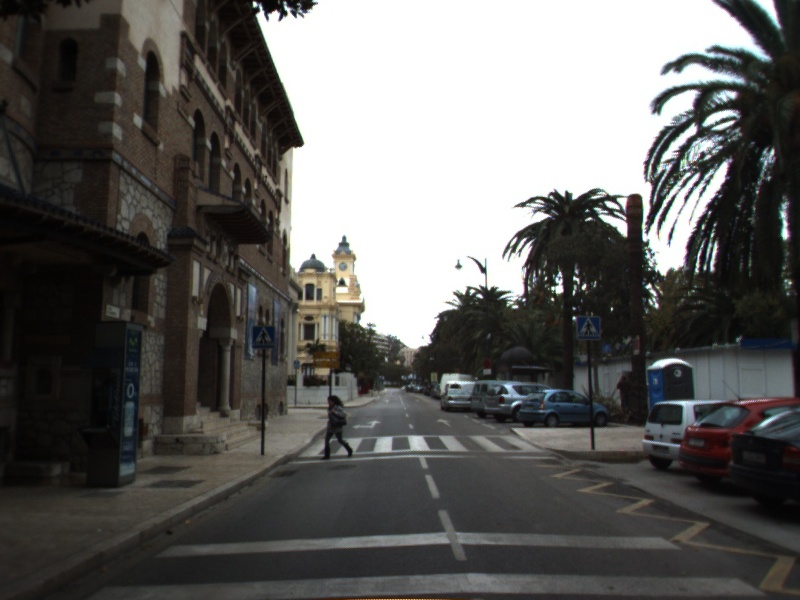STRAIGHT: (435, 416, 454, 428)
STRAIGHT_LEFT: (351, 418, 383, 431)
